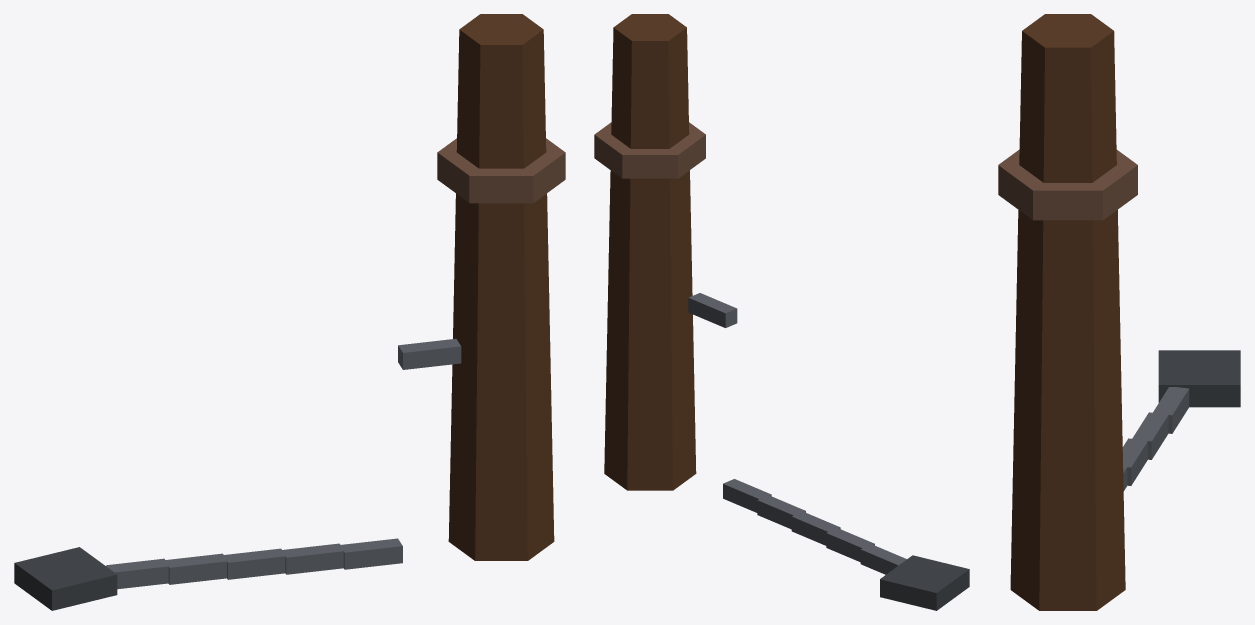
File: PR_ChainPost.fbx
3 renders of one model, left to right at view 1: azimuth 30°, elevation 25°; view 2: azimuth 150°, elevation 25°; view 3: azimuth 270°, elevation 25°, orthographic. The views are drawn at different scales.
Parts seen in each view (by area): view 1: PR_ChainPost; view 2: PR_ChainPost; view 3: PR_ChainPost.
Boxes of the visible parts, left/top/right/bottom form: PR_ChainPost: left=14, top=14, right=565, bottom=610; PR_ChainPost: left=594, top=14, right=969, bottom=610; PR_ChainPost: left=998, top=14, right=1240, bottom=610.
Bounding box in the file's own units: 1.4 × 0.59 × 1.5.
